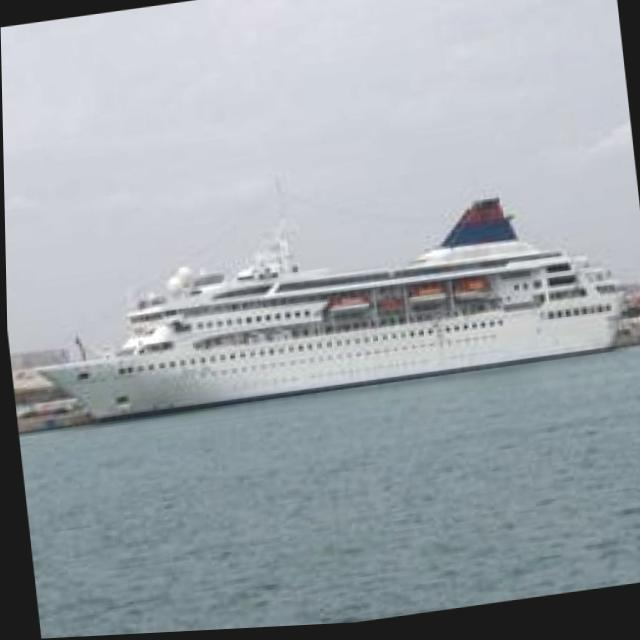ship2: (35, 184, 628, 425)
